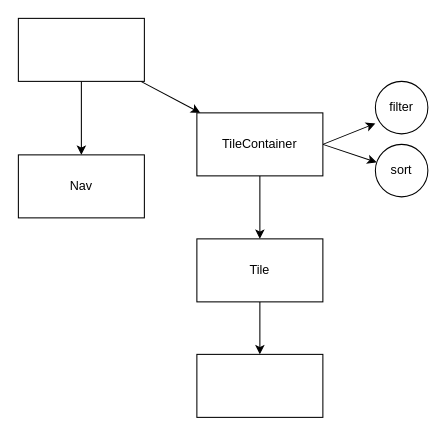
Some shapes in this 446 by 436 pixel diagram are drawn without their labels. Here are the shapes that lost their labels. From the top down, the box of each, then its label:
(17, 17, 144, 81): App
(196, 353, 323, 417): HogDetails
